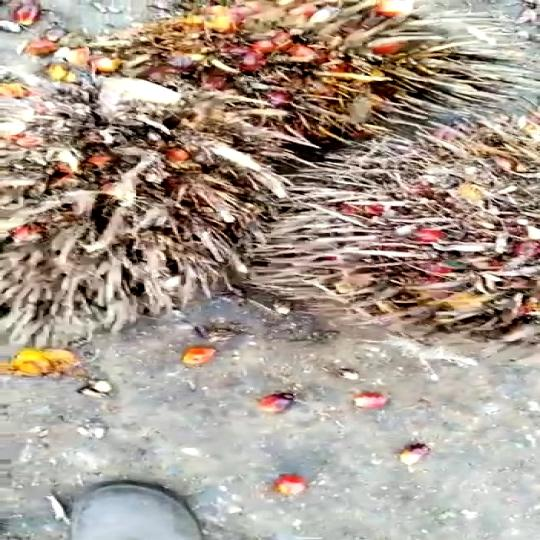terlalu masak: (0, 77, 291, 318), (98, 0, 519, 127)
